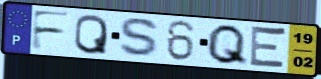6: (165, 19, 197, 63)
E: (247, 23, 289, 72)
F: (29, 8, 73, 52)
Q: (205, 23, 250, 68), (72, 13, 110, 56)
S: (118, 16, 163, 60)
